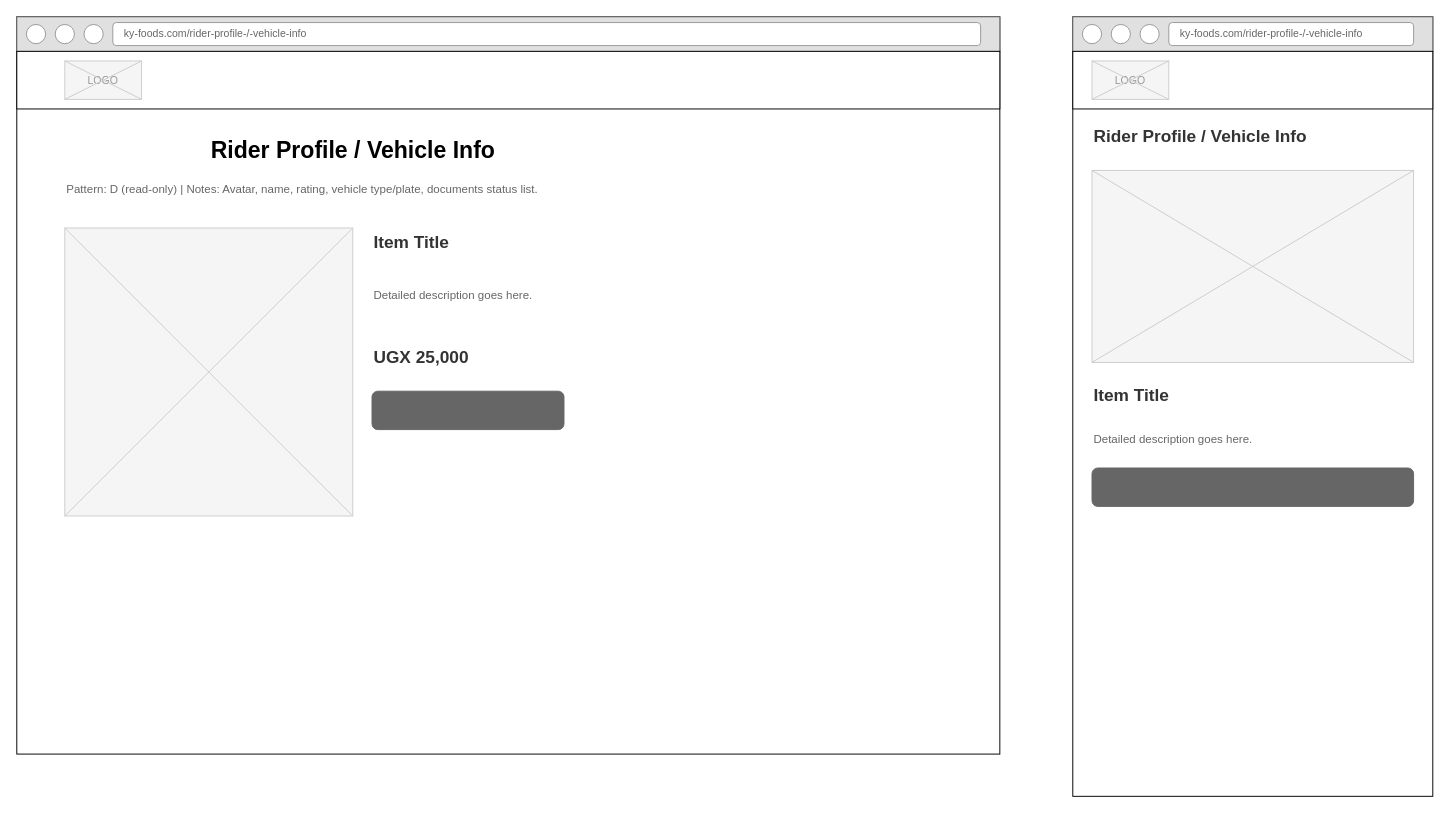
The diagram is 1450 pixels wide and 813 high, and some of its shapes have lost their labels. The box of each missing label's shape, as (x1, y1, x2, y2) in pixels:
Action (UGX 25,000): (1091, 467, 1414, 506)
Action Button: (371, 390, 564, 430)
